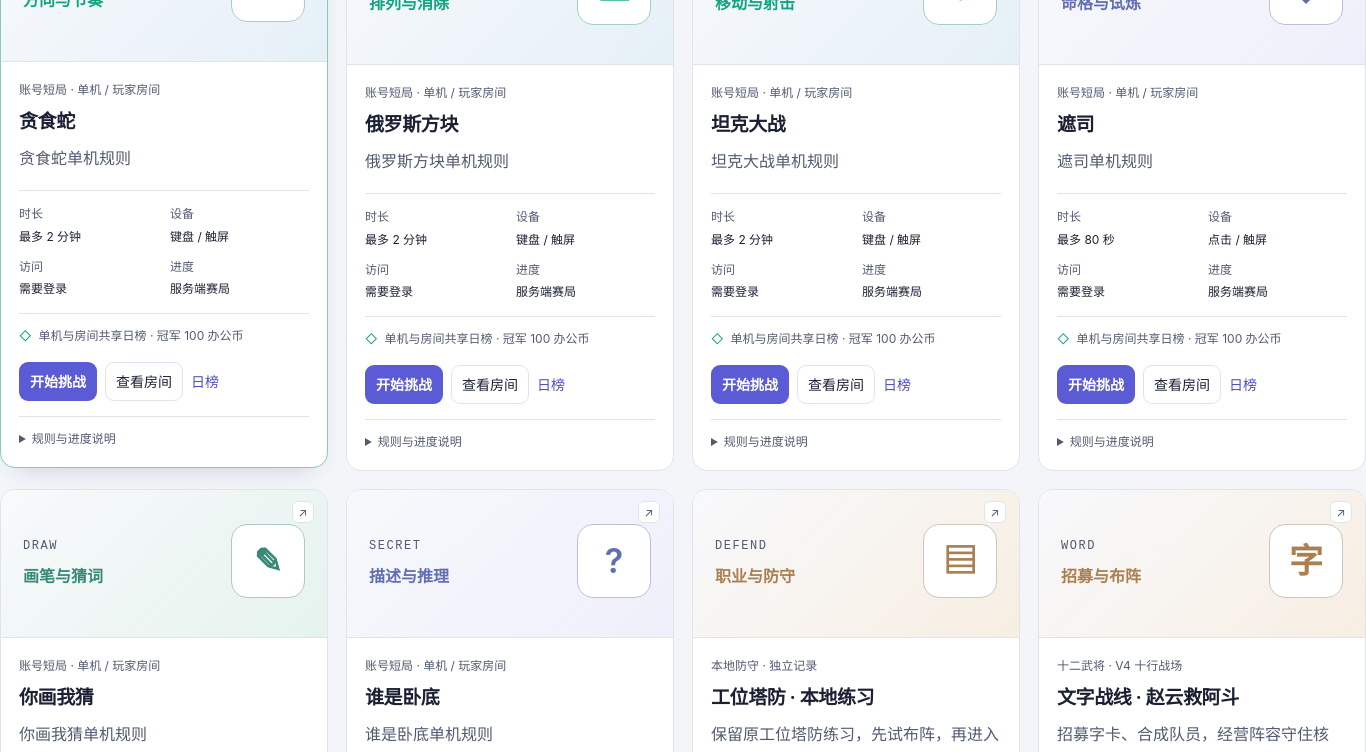
Scenario: community game workspace › keeps one creation identity when a single-player create response is uncertain
The width and height of the screenshot is (1366, 752).
(page scrolled)
Step 1. Click the 1st button "开始挑战" → x=58, y=382, box [19, 362, 97, 401]
(page scrolled)
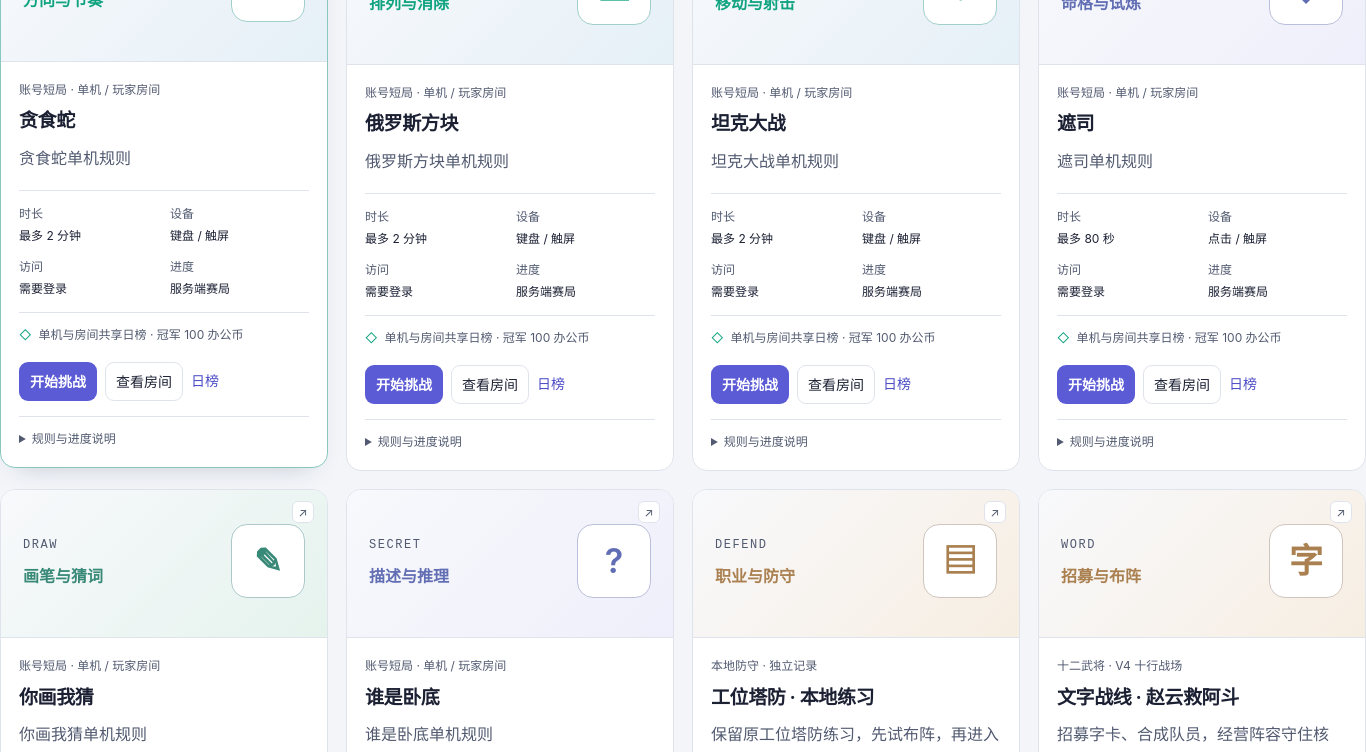
Step 2. Click the 1st button "开始挑战" → x=58, y=381, box [19, 362, 97, 401]
(page scrolled)
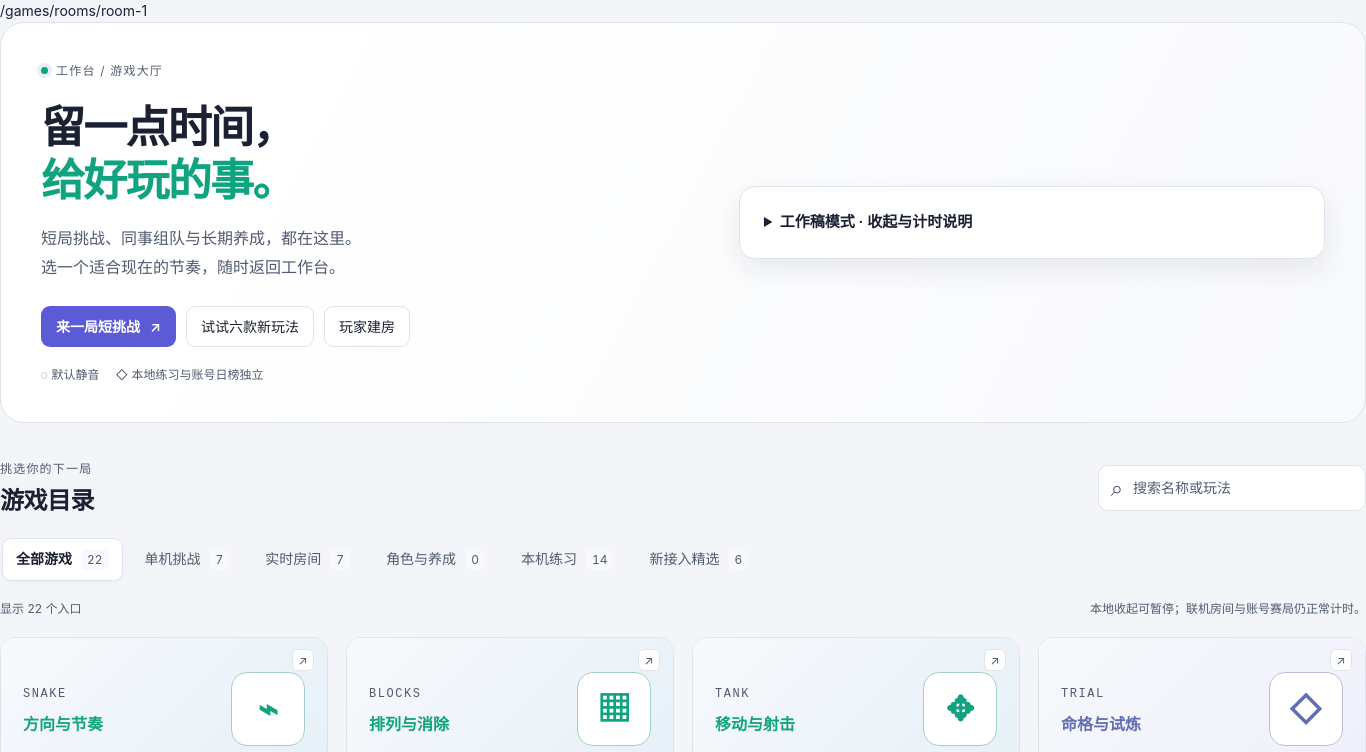
Expected: the text named "当前路径" reads "/games/rooms/room-1", [0, 2, 147, 19]
